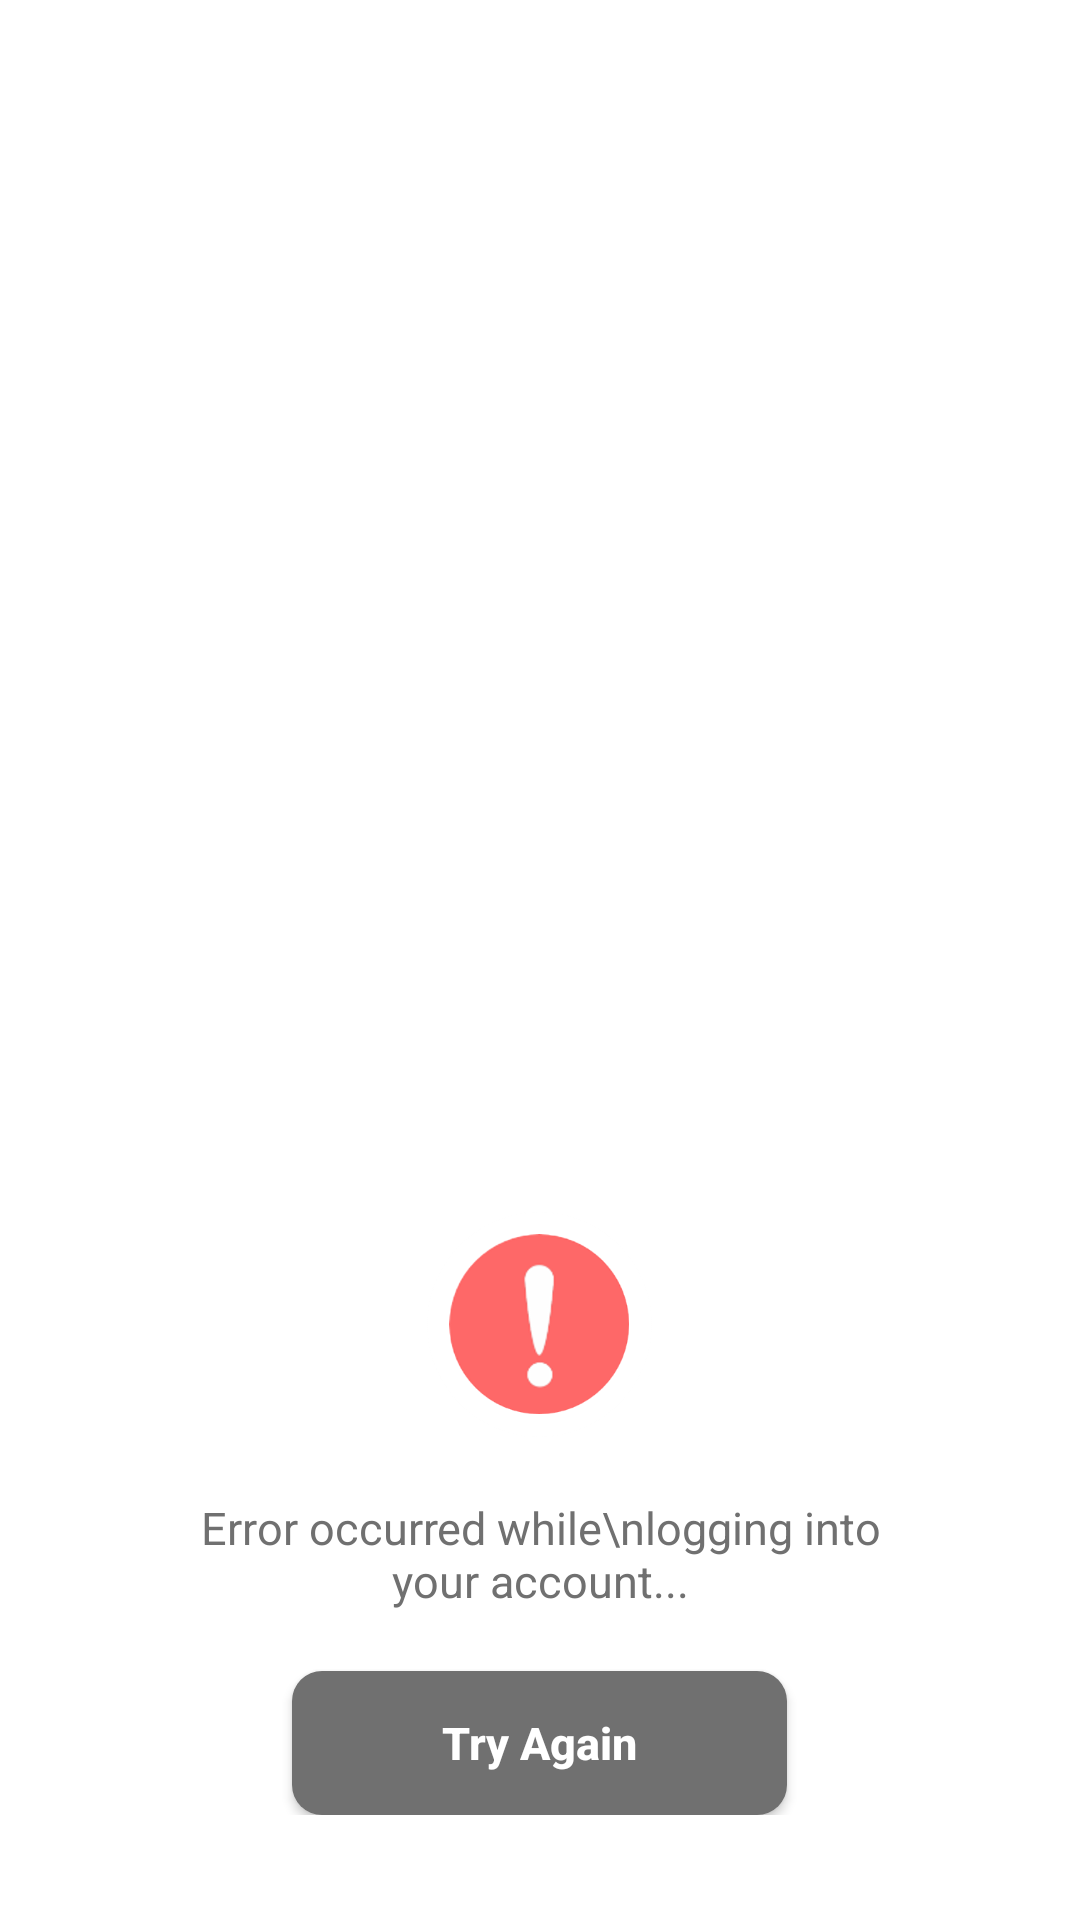

Named icons in this screenshot (1080w x 1920h) and their bounding boxes, (x1, y1, x2, y2):
alert error: (449, 1234, 629, 1414)
